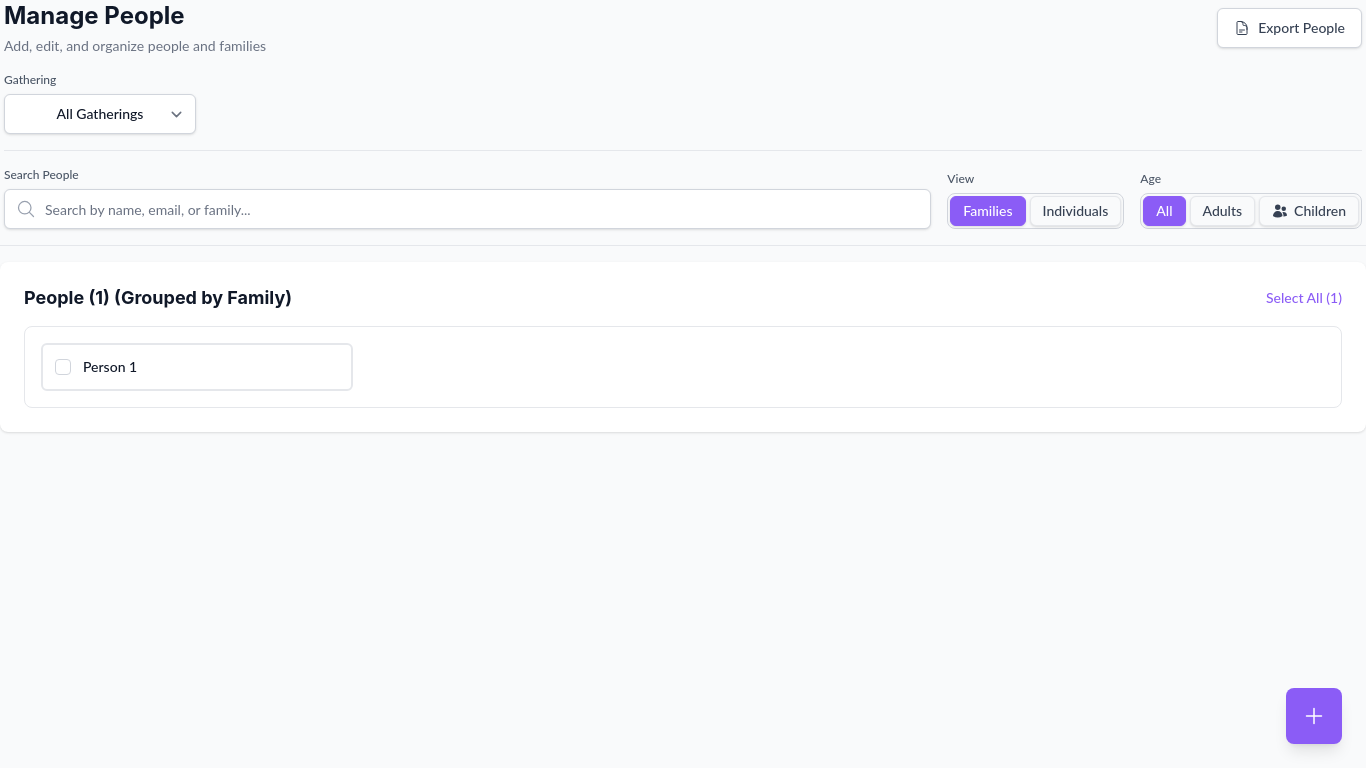
Scenario: PeoplePage provider import › opens TSV Upload in the add modal
Click the button named "Add people": (1314, 716) [1286,688,1342,744]
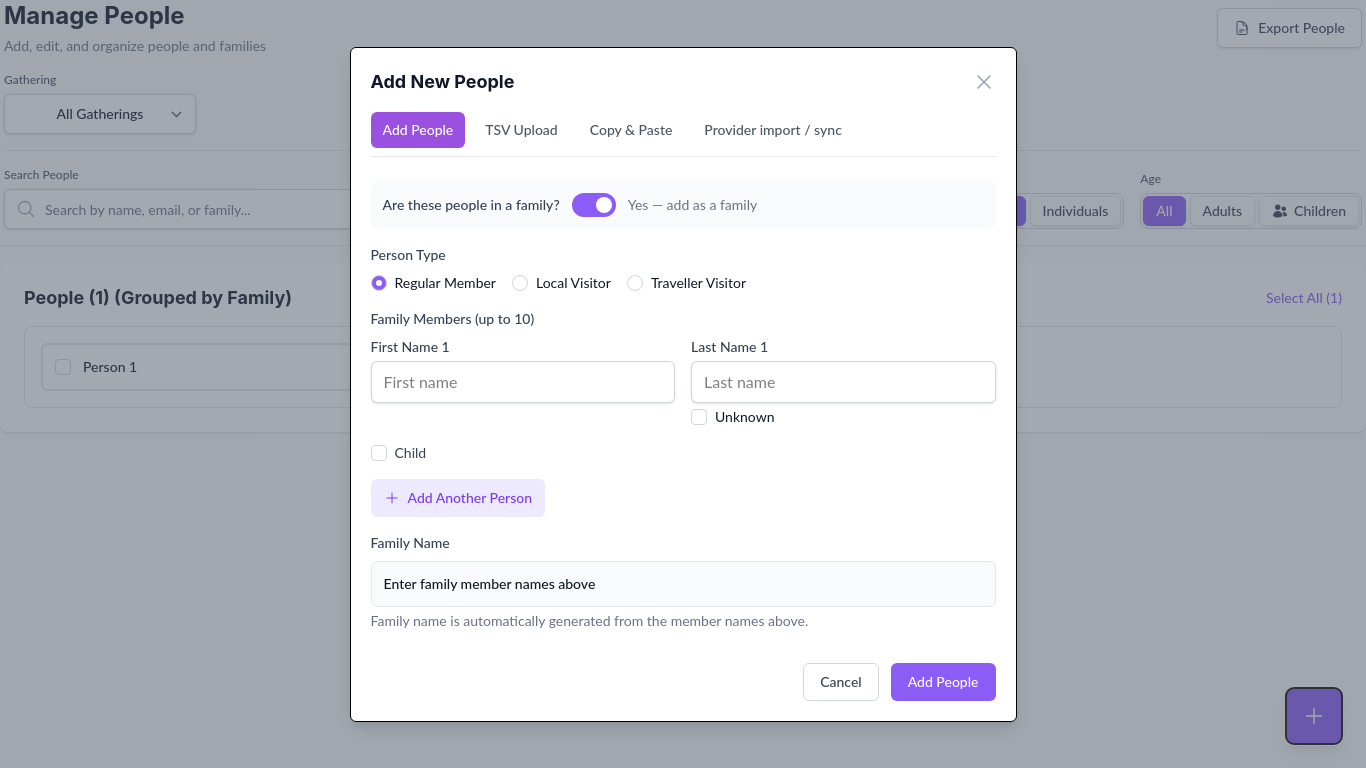
Click the tab "TSV Upload": (522, 130) [473,112,570,148]
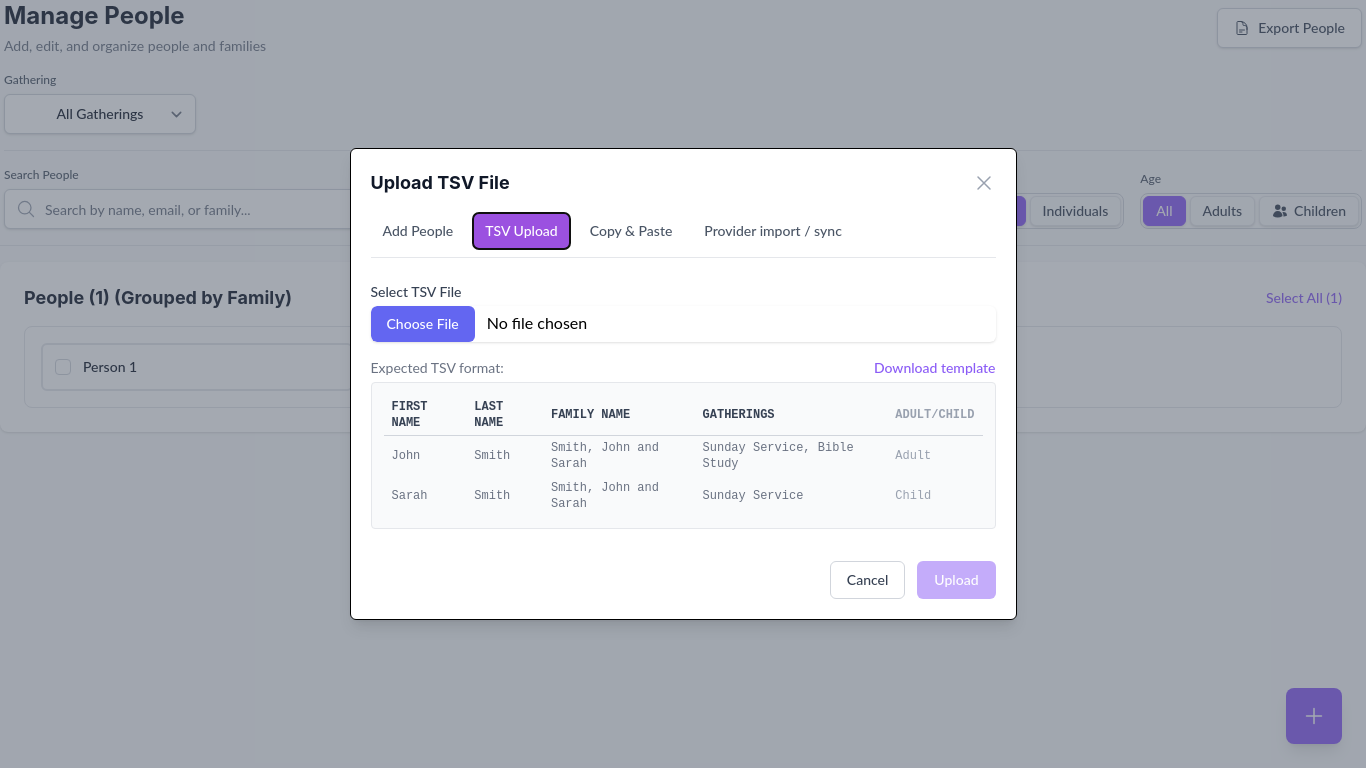
Check: the heading "Upload TSV File" is shown, box [370,169,510,197]
